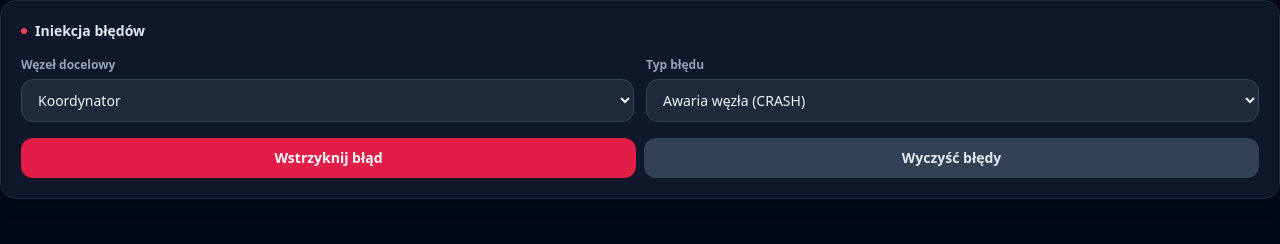
Scenario: FaultInjectionPanel › clearFault_givenSuccess_displaysClearedMessage
Step 1. Click the button "Wyczyść błędy" → (952,158), box left=644, top=138, right=1259, bottom=178
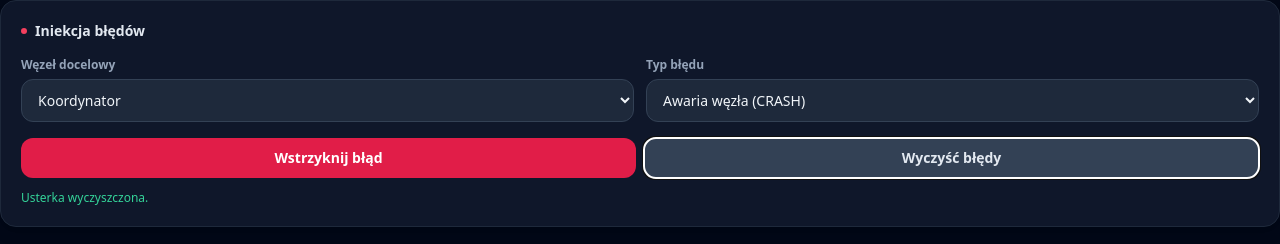
Now the text "Usterka wyczyszczona." is shown, box left=21, top=189, right=148, bottom=206
